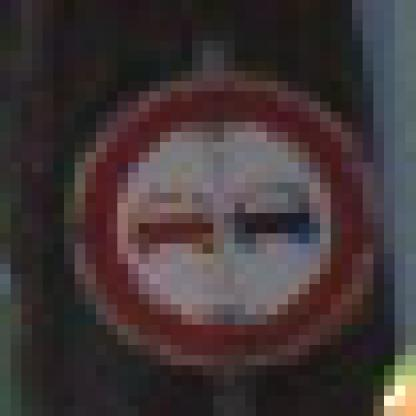No Overtaking: (54, 62, 364, 356)
